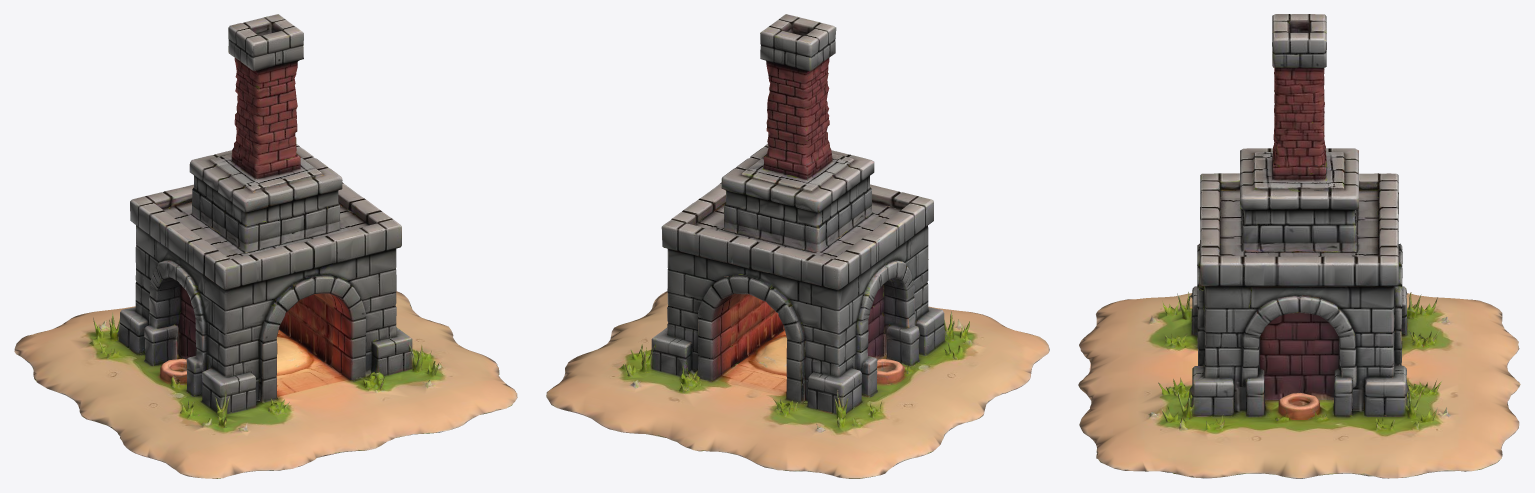
Rendered from upgrade.glb.
3 views of the same model, side by side, from view 1: azimuth 30°, elevation 25°; view 2: azimuth 150°, elevation 25°; view 3: azimuth 270°, elevation 25° (orthographic). The views are drawn at different scales.
Visible parts, largest first — view 1: Mesh_0; view 2: Mesh_0; view 3: Mesh_0.
Part boxes in pixels (x1,y1,x2,y2): Mesh_0: (14,14,517,478); Mesh_0: (546,14,1049,478); Mesh_0: (1078,14,1520,478).
Size of the model in its own units: 1.91 by 1.71 by 1.91.
1 material, 1 textured.
